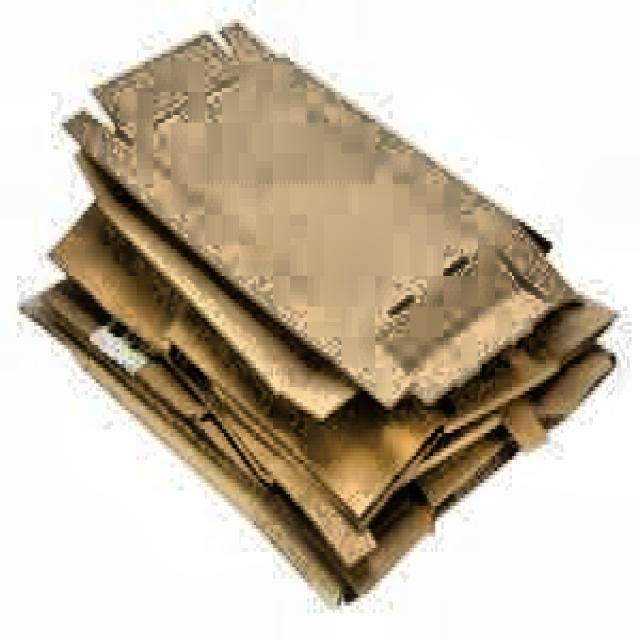cardboard: (17, 16, 619, 606)
